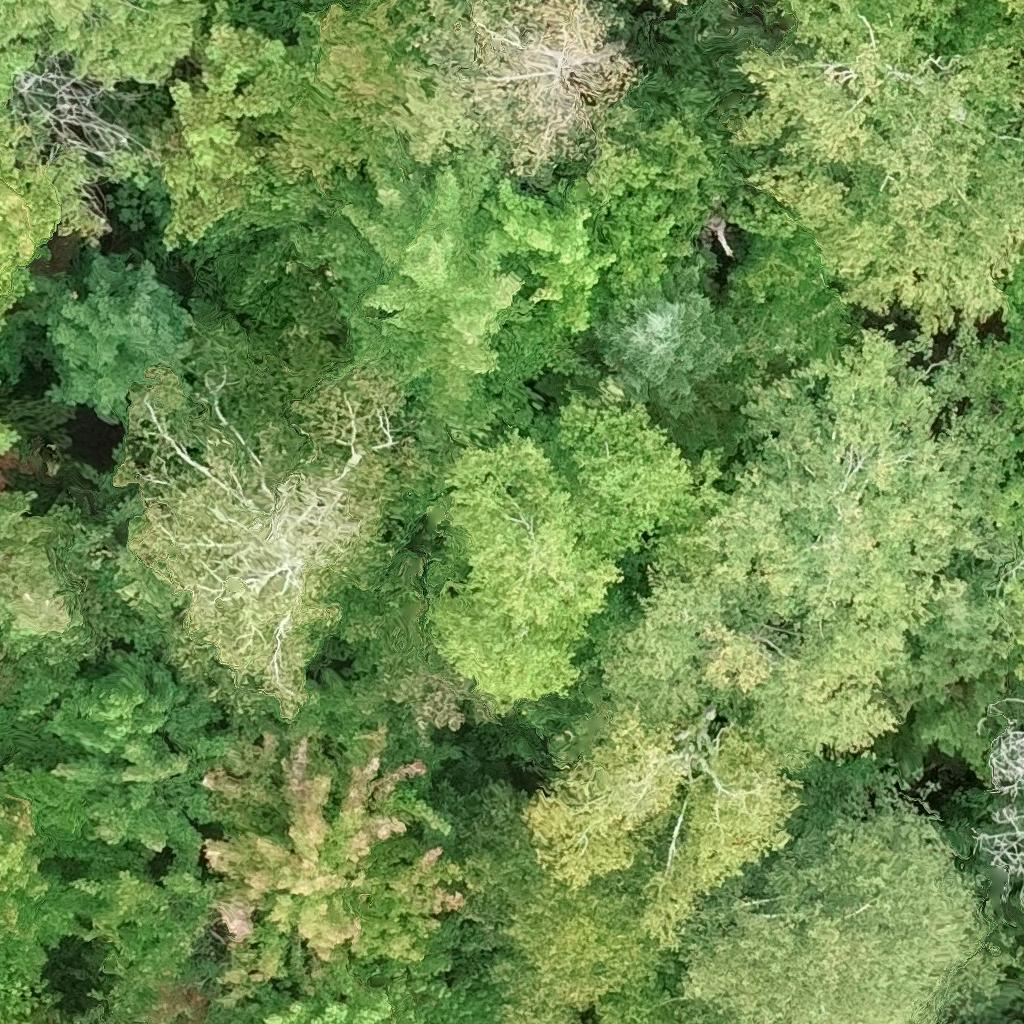crown: (602, 325, 1023, 783), (459, 693, 803, 1023), (112, 365, 426, 715), (601, 769, 1023, 1023), (733, 0, 1023, 340), (421, 387, 720, 714), (280, 128, 582, 448), (196, 725, 493, 1009), (481, 112, 714, 336), (386, 0, 639, 175), (45, 652, 235, 877), (154, 24, 333, 249), (242, 0, 412, 184), (595, 255, 755, 449), (0, 106, 113, 340), (233, 928, 499, 1023), (0, 0, 205, 112), (0, 766, 100, 986), (0, 490, 111, 665), (970, 256, 1023, 451), (968, 804, 1023, 908), (990, 466, 1023, 557), (1001, 560, 1023, 682), (988, 727, 1023, 801), (991, 696, 1023, 707), (1013, 944, 1023, 974), (18, 1019, 61, 1023), (0, 367, 6, 390), (682, 0, 692, 3), (665, 0, 673, 3)
